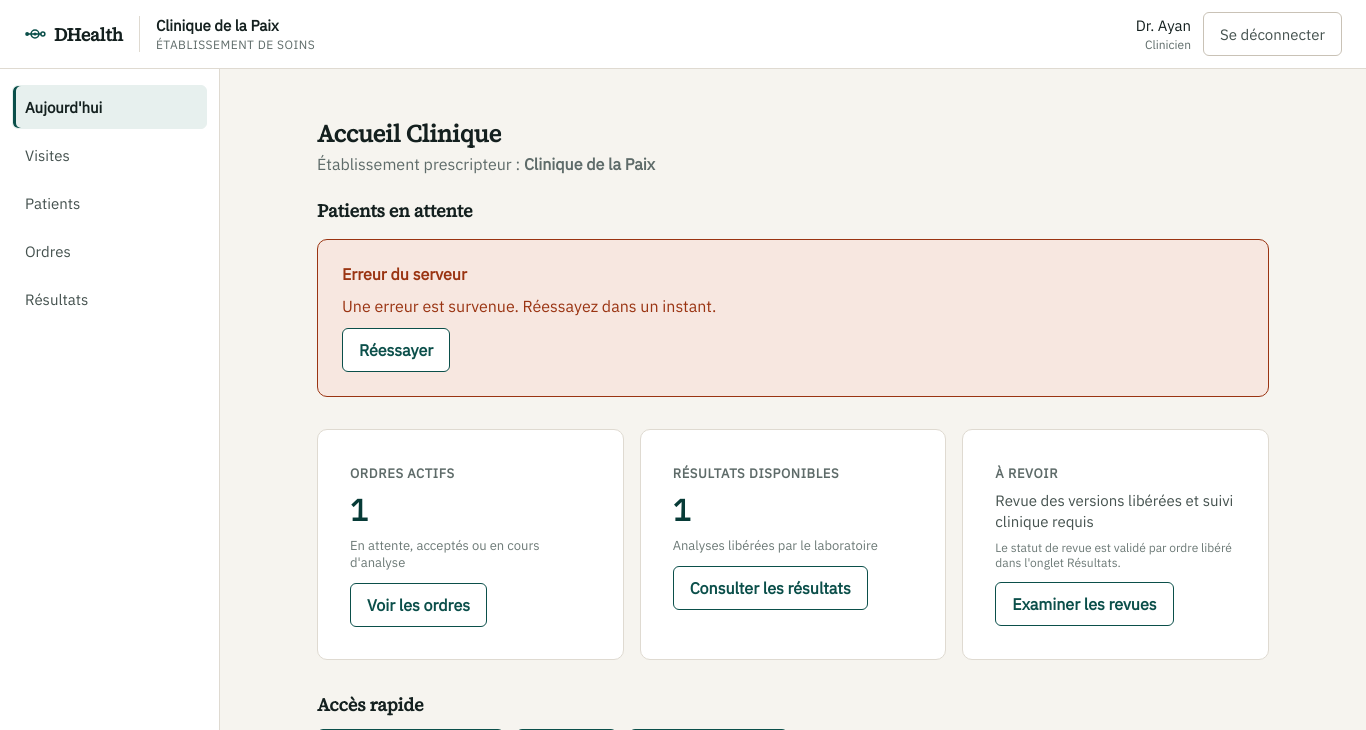
Test case: the staff application at a provider organization › navigates to the native Patients workflow
Click the button "Patients". click: (110, 203)
box: [12,181,207,225]
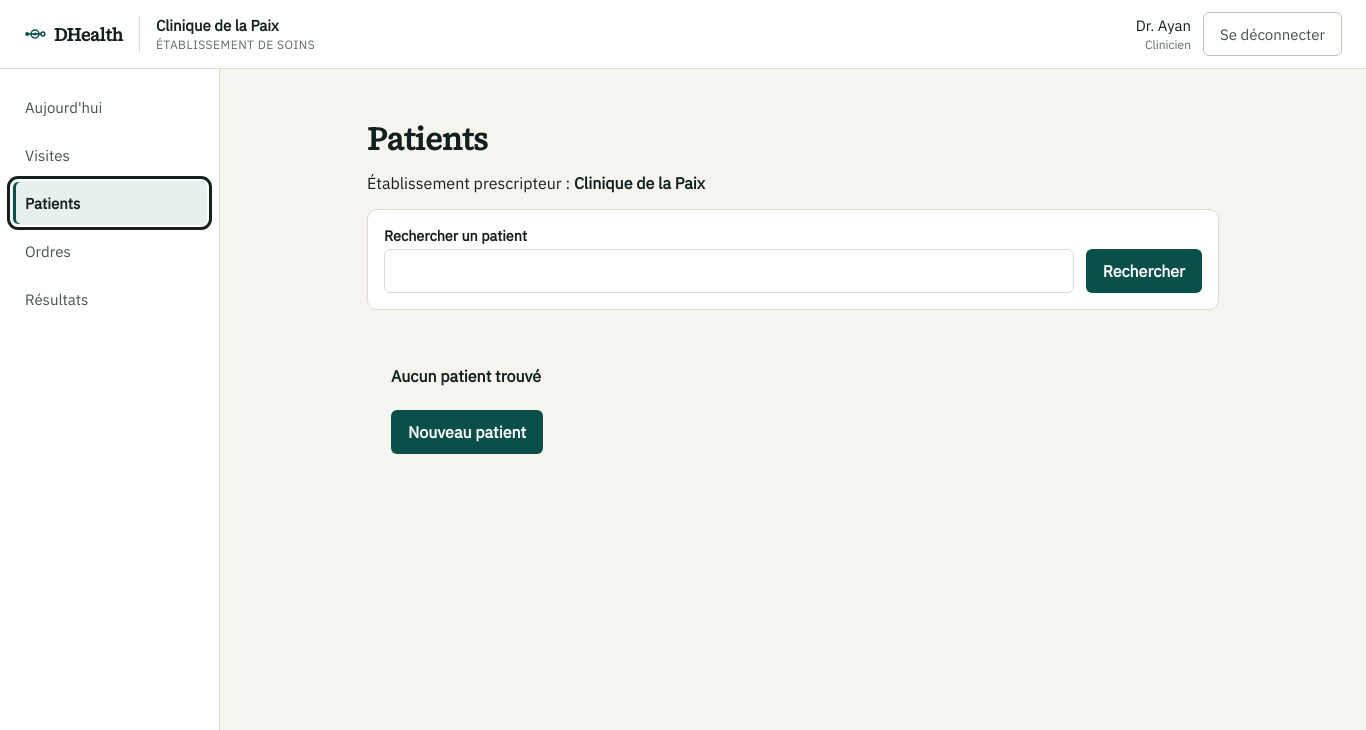
Check: the heading "Patients" is shown, box [367,117,488,161]
Check: the search field labelled "Rechercher un patient" is shown, box [384,249,1074,293]
Check: the text "Aucun patient trouvé" is shown, box [391,366,541,386]
